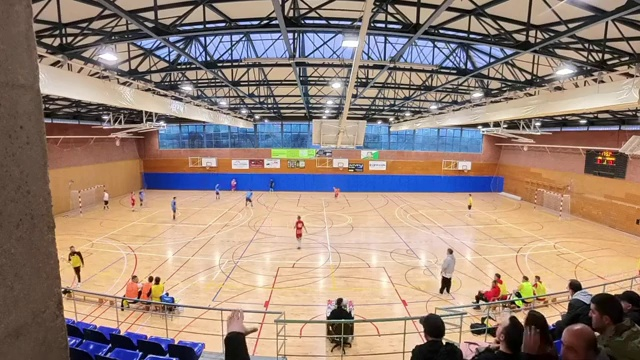players blue shirt: (245, 192, 252, 205), (172, 198, 176, 219), (139, 191, 144, 205), (215, 185, 219, 198)
players red shirt: (295, 215, 304, 249), (131, 192, 135, 209), (334, 187, 340, 198), (230, 179, 236, 190)
